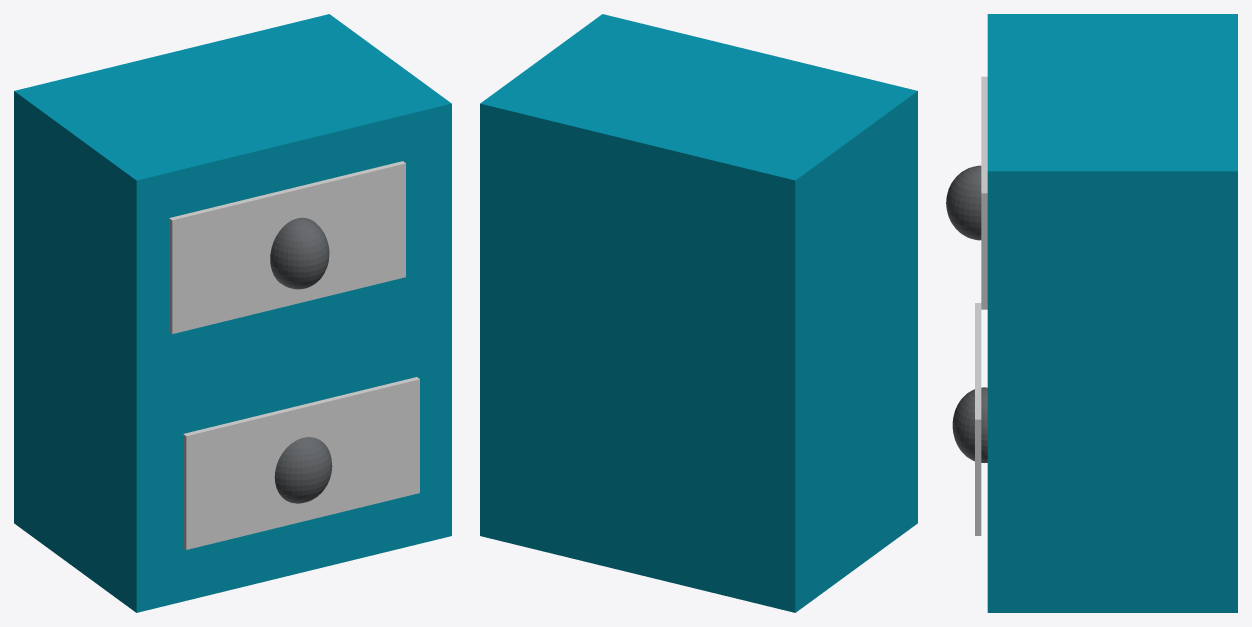
Rendered from Project149.glb.
3 renders of one model, left to right at view 1: azimuth 30°, elevation 25°; view 2: azimuth 150°, elevation 25°; view 3: azimuth 270°, elevation 25°, orthographic. The views are drawn at different scales.
Parts seen in each view (by area): view 1: Mesh_Mesh_head_geo.001_lambert2SG.001; view 2: Mesh_Mesh_head_geo.001_lambert2SG.001; view 3: Mesh_Mesh_head_geo.001_lambert2SG.001.
Boxes of the visible parts, box(x1,y1,x2,y2) form: Mesh_Mesh_head_geo.001_lambert2SG.001: box(14, 14, 451, 612); Mesh_Mesh_head_geo.001_lambert2SG.001: box(480, 14, 917, 612); Mesh_Mesh_head_geo.001_lambert2SG.001: box(946, 14, 1237, 612).
Size of the model in its own units: 58 by 76 by 45.5.
